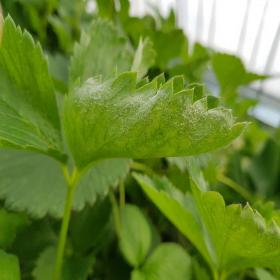Powdery Mildew Leaf: (60, 67, 253, 176)
